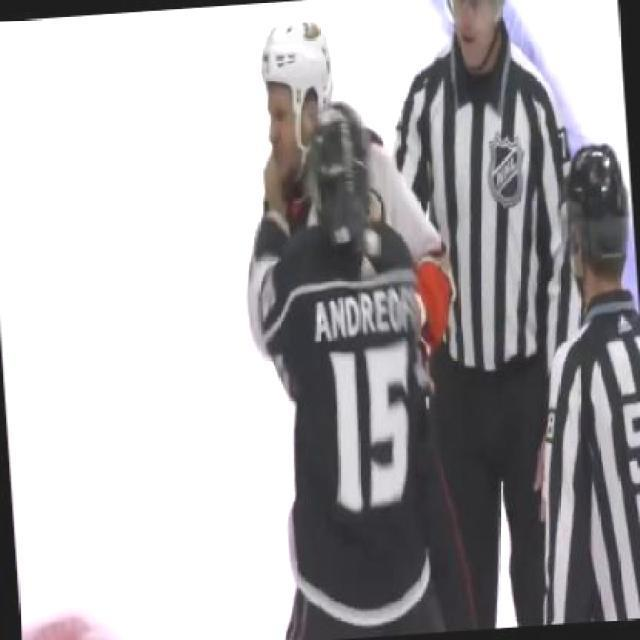fight: (221, 0, 484, 638)
non-fight: (498, 126, 638, 626)
